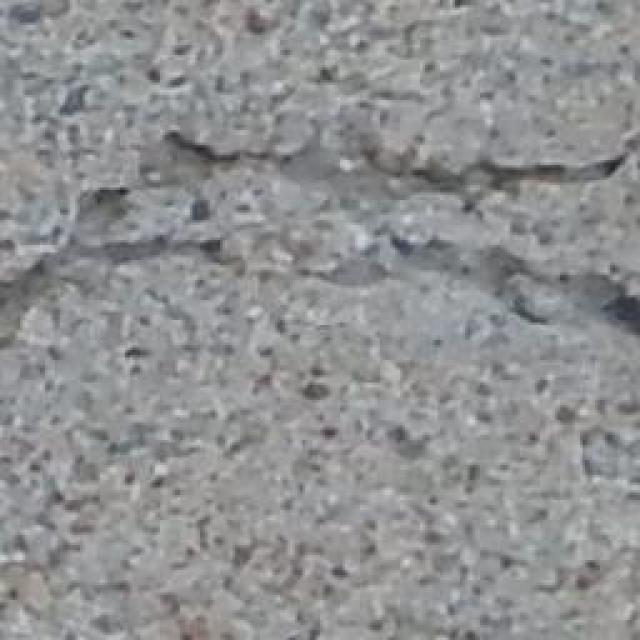concrete-crack: (0, 118, 640, 359)
